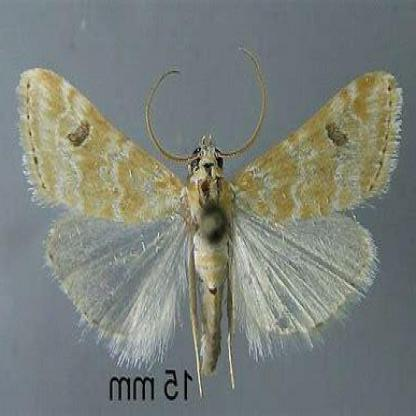Hellula undalis: (15, 43, 407, 400)
